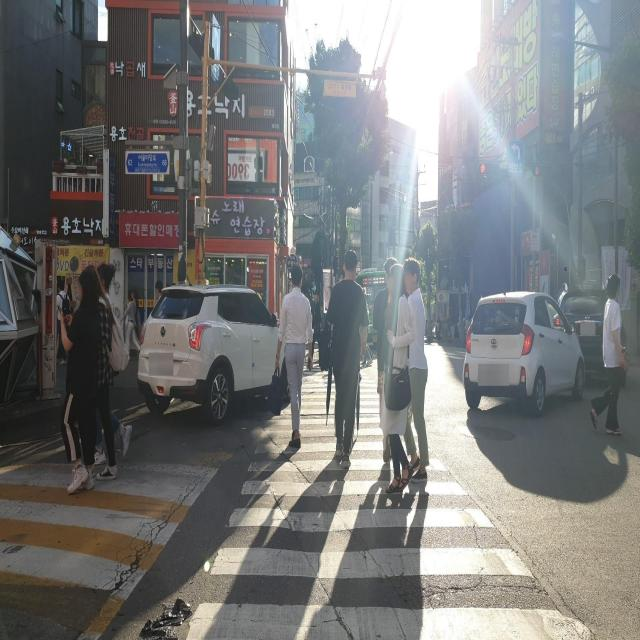횡단보도: (183, 363, 598, 640)
